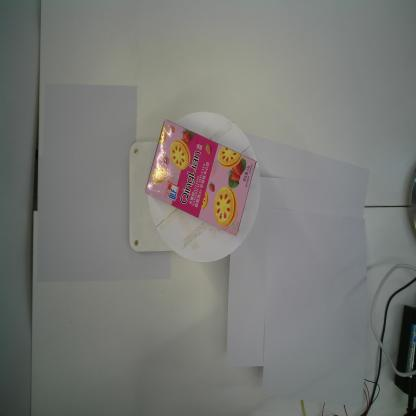Dessert: (144, 116, 258, 236)
